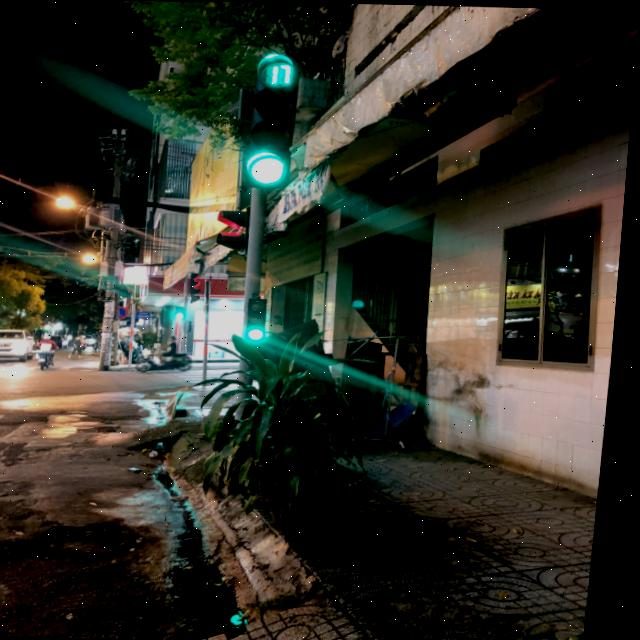Green: (234, 90, 306, 194), (239, 288, 281, 345)
